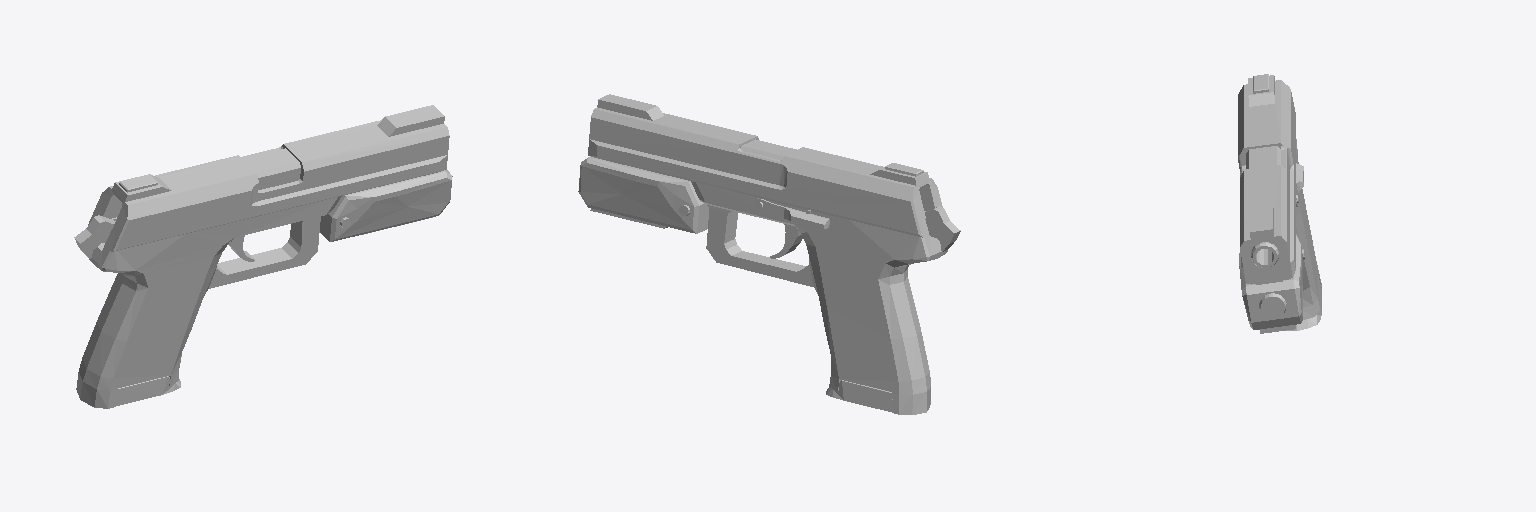
File: pistol2_000021.obj
3 views of the same model, side by side, from view 1: azimuth 30°, elevation 25°; view 2: azimuth 150°, elevation 25°; view 3: azimuth 270°, elevation 25° (orthographic).
Parts seen in each view (by area): view 1: Pistol; view 2: Pistol; view 3: Pistol.
Part boxes in pixels (x1,y1,x2,y2): Pistol: (74,105,452,408); Pistol: (578,94,960,414); Pistol: (1238,74,1321,333).
Size of the model in its own units: 0.9462 by 0.5544 by 0.1891.